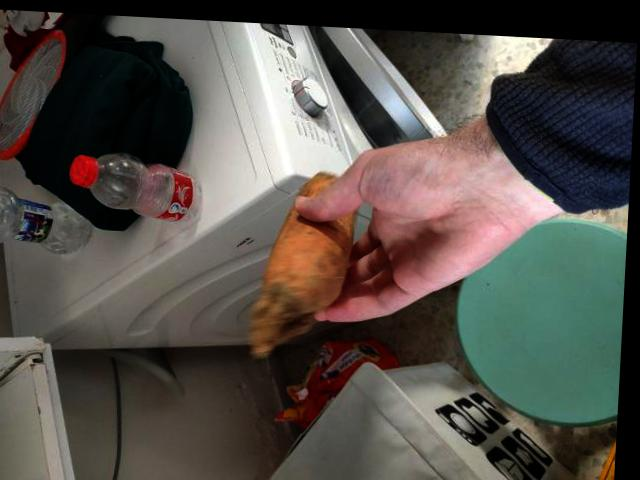sweet_potato: (263, 191, 350, 311)
